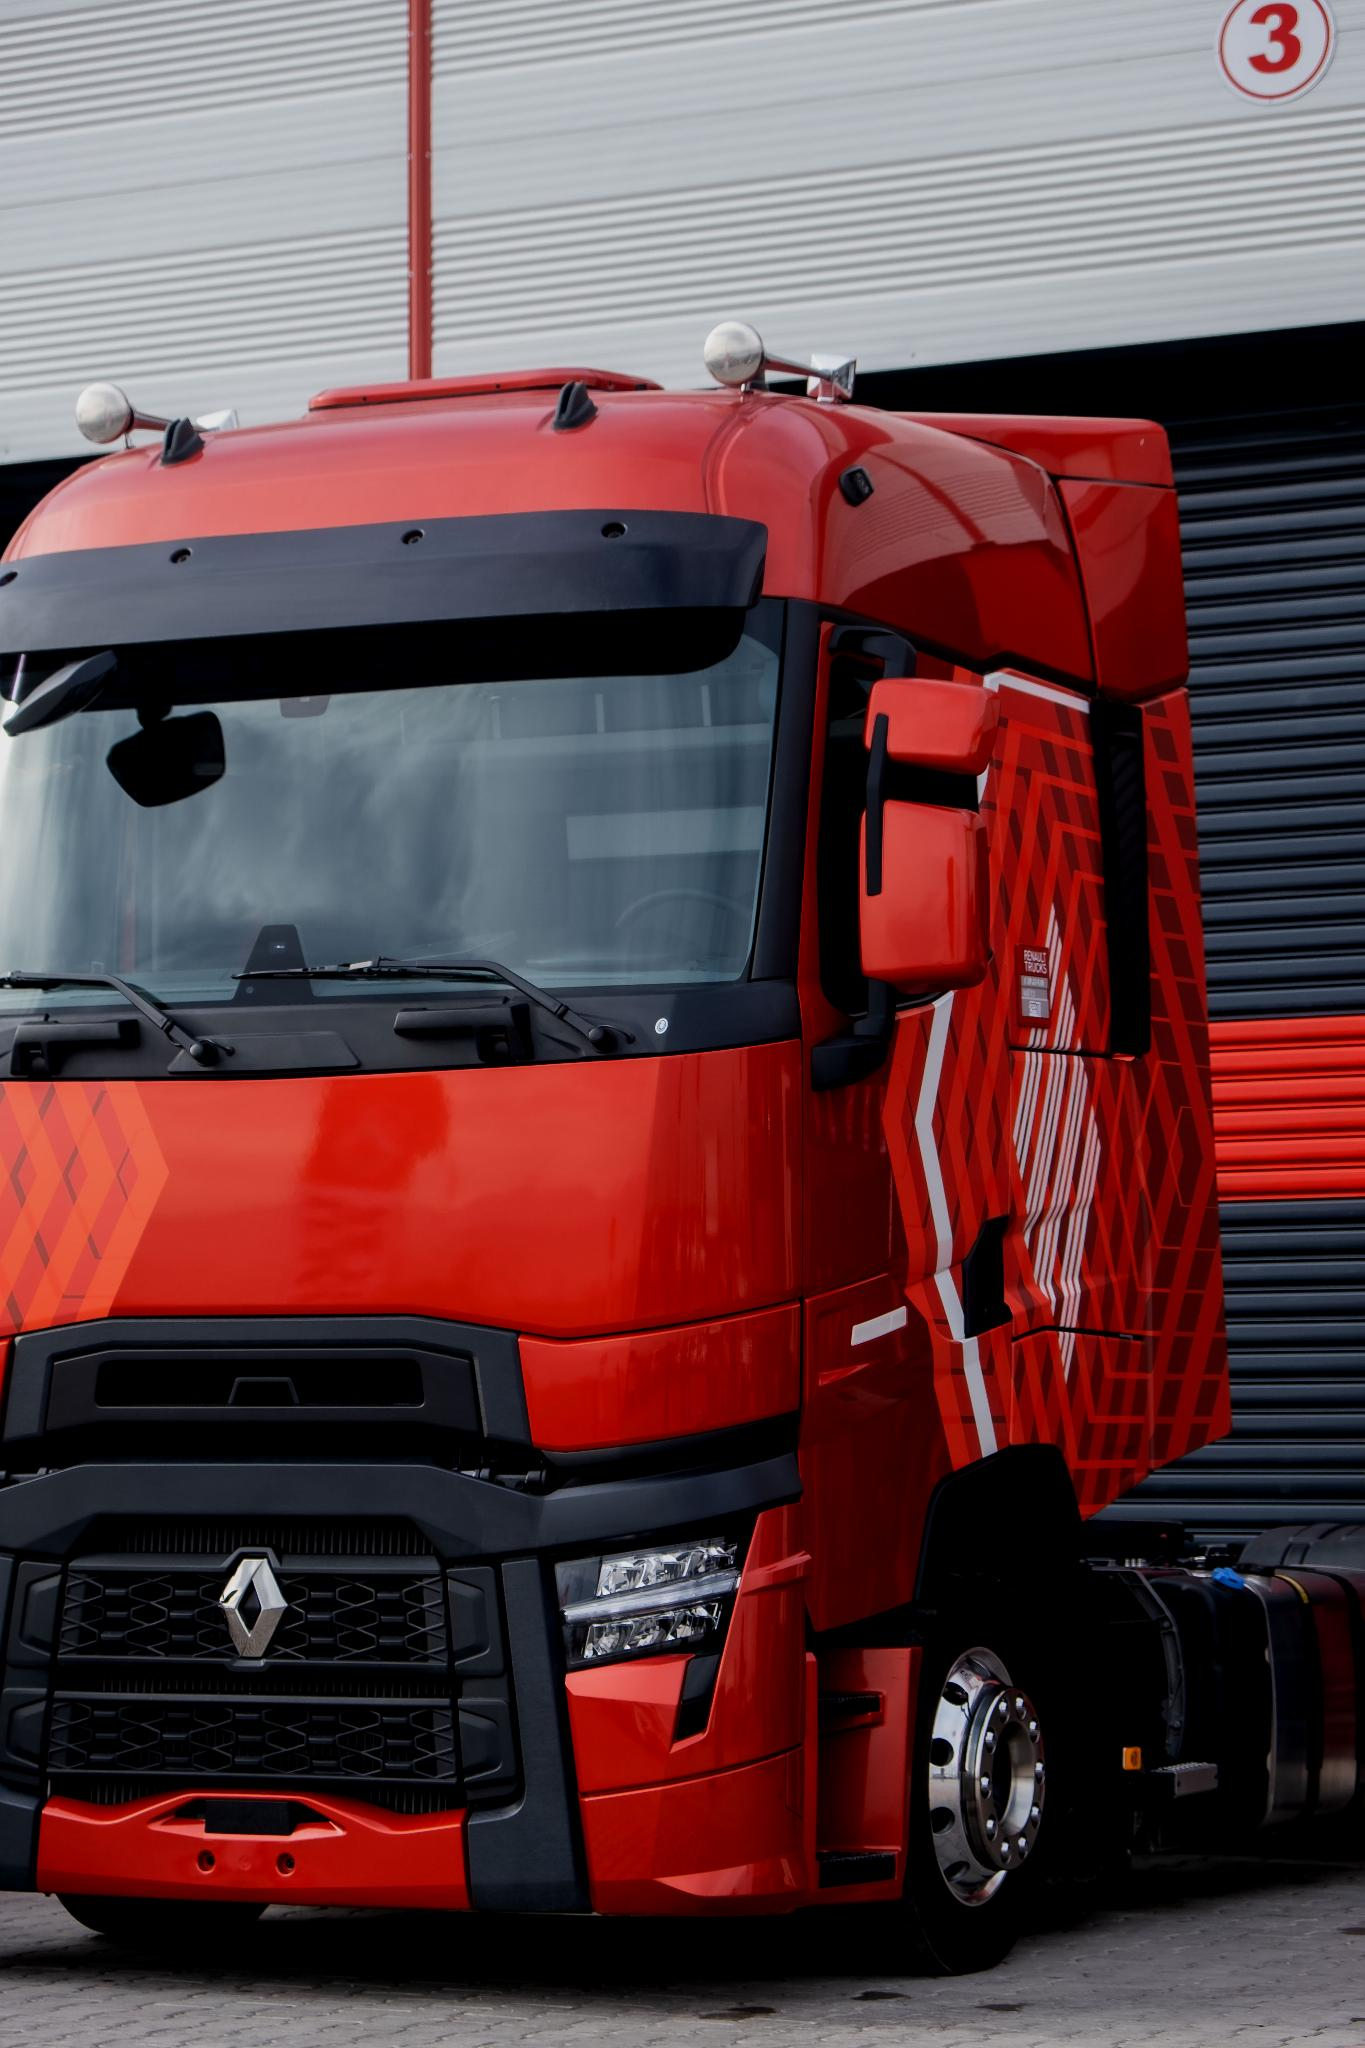Renault: (186, 1521, 318, 1686)
